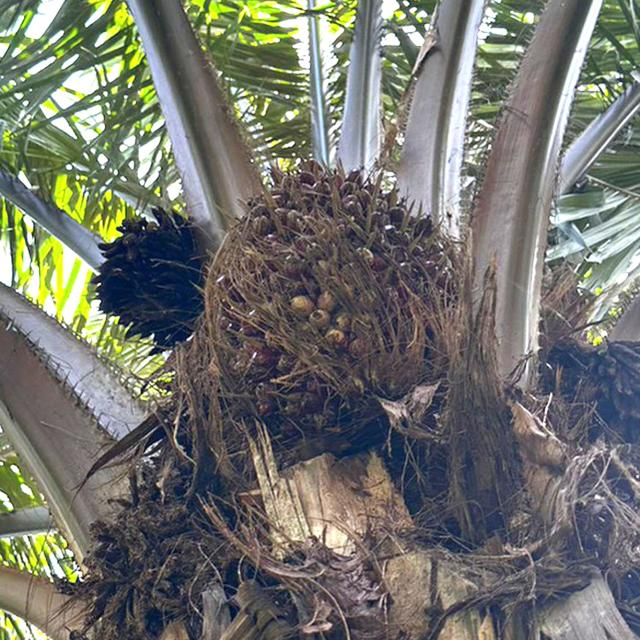ripe: (219, 152, 466, 427)
